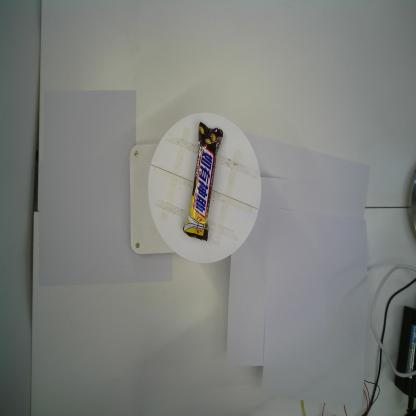Chocolate: (183, 121, 223, 242)
